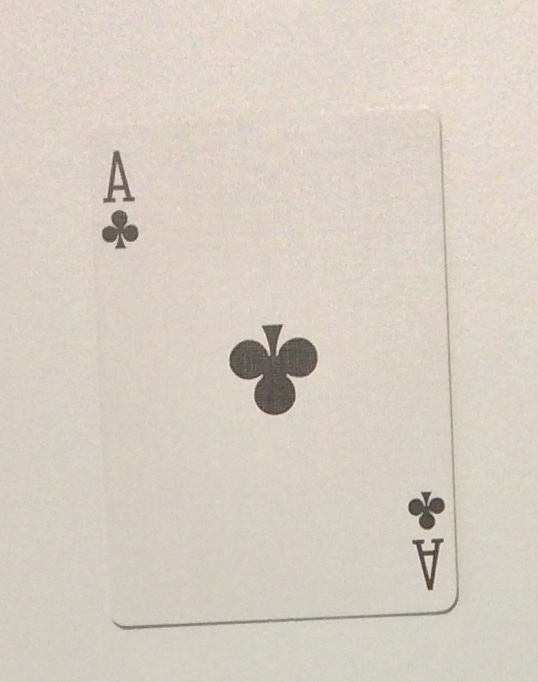A: (92, 134, 142, 211)
S: (93, 204, 148, 258)
